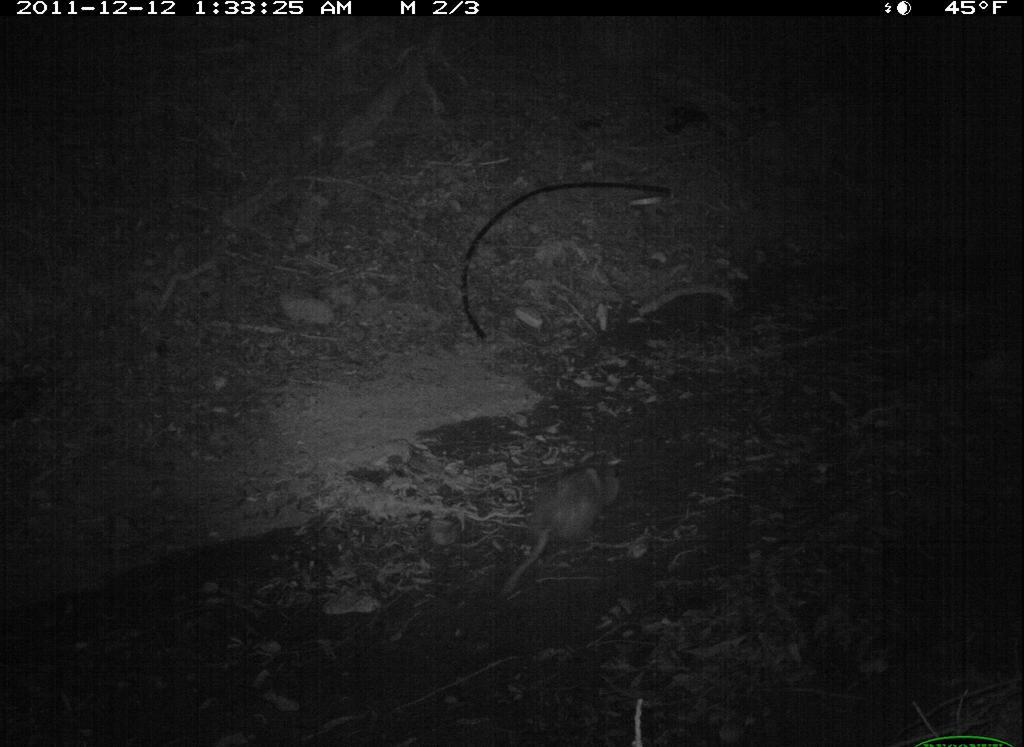opossum: (493, 441, 644, 586)
